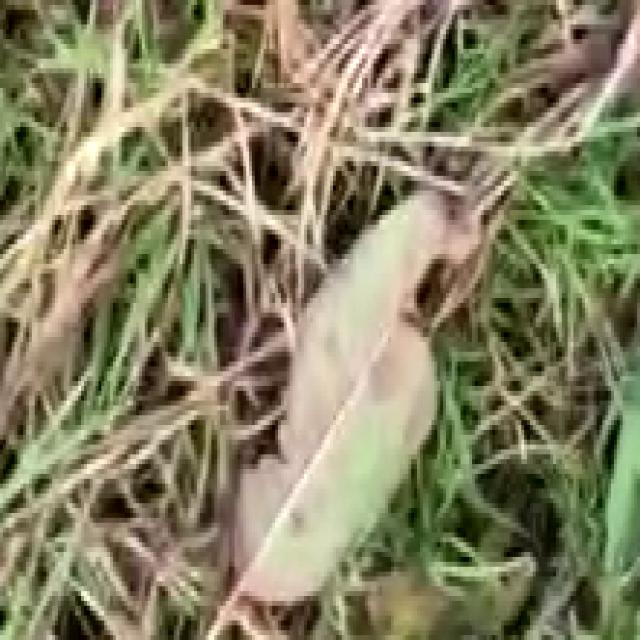organic waste: (168, 171, 492, 630)
